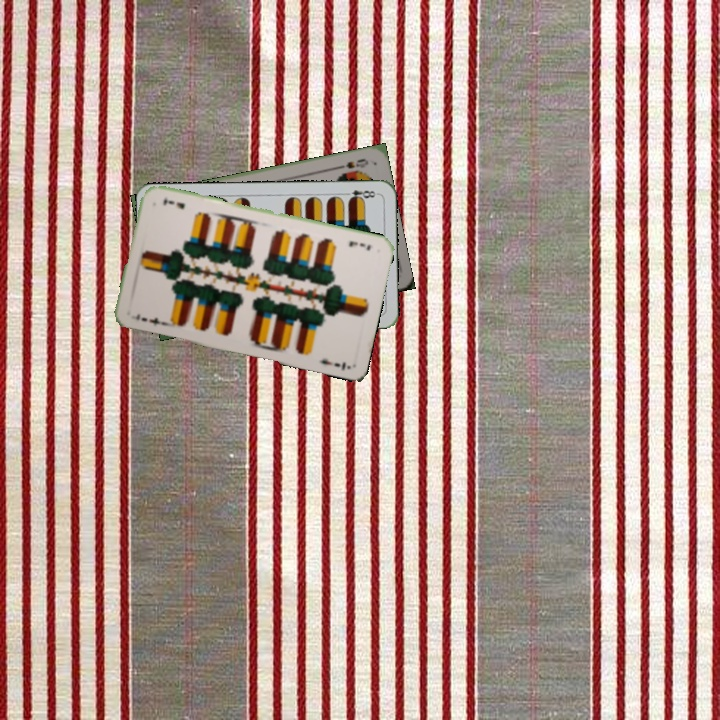E7: (132, 309, 168, 329), (345, 237, 374, 253)
E8: (339, 186, 380, 203)
SO: (332, 154, 371, 172)
